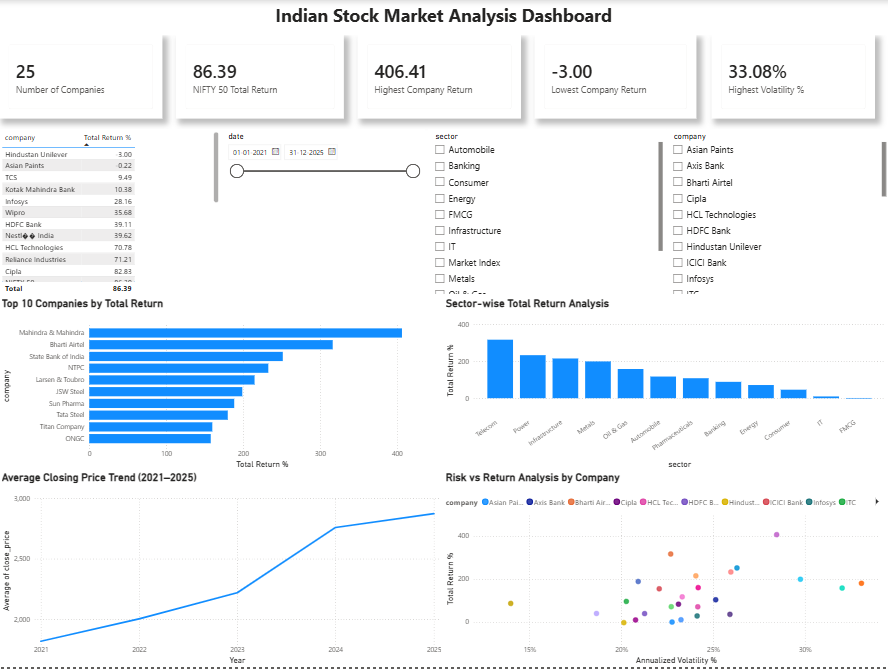

What the dashboard file says about the page in this screenshot:
{"tool":"powerbi","page":{"name":"Stock Market Dashboard","canvas":[1600,1200],"ordinal":0},"visuals":[{"type":"cardVisual","fields":{"Data":["StockData.NIFTY 50 Return %"]},"box":[318.4,62.1,302.3,151.1],"z":0},{"type":"cardVisual","title":"Total Companies Analyzed","fields":{"Data":["StockData.Number of Companies"]},"box":[0,62.1,294.2,151.1],"z":1000},{"type":"cardVisual","fields":{"Data":["StockData.Highest Company Return %"]},"box":[645,62.1,294.2,151.1],"z":2000},{"type":"cardVisual","fields":{"Data":["StockData.Lowest Company Return %"]},"box":[963.4,62.1,291.5,151.1],"z":3000},{"type":"cardVisual","fields":{"Data":["StockData.Highest Volatility %"]},"box":[1281.9,62.1,294.2,151.1],"z":4000},{"type":"tableEx","fields":{"Values":["StockData.company","StockData.Total Return %"]},"box":[0,233.3,400,300],"z":5000},{"type":"slicer","fields":{"Values":["StockData.date"]},"box":[400,233.3,366.7,300],"z":6000},{"type":"slicer","fields":{"Values":["StockData.sector"]},"box":[772.2,233.3,427.8,300],"z":7000},{"type":"slicer","fields":{"Values":["StockData.company"]},"box":[1200,233.3,400,300],"z":8000},{"type":"clusteredBarChart","title":"Top 10 Companies by Total Return","fields":{"Category":["StockData.company"],"Y":["StockData.Total Return %"]},"box":[0,533.3,800,313.9],"z":9000},{"type":"clusteredColumnChart","title":"Sector-wise Total Return Analysis","fields":{"Category":["StockData.sector"],"Y":["StockData.Total Return %"]},"box":[800,533.3,800,313.3],"z":10000},{"type":"lineChart","title":"Average Closing Price Trend (2021–2025)","fields":{"Category":["StockData.date.Variation.Date Hierarchy.Year","StockData.date.Variation.Date Hierarchy.Quarter","StockData.date.Variation.Date Hierarchy.Month","StockData.date.Variation.Date Hierarchy.Day"],"Y":["Avg(StockData.close_price)"]},"box":[0,846.7,800,353.3],"z":11000},{"type":"scatterChart","title":"Risk vs Return Analysis by Company","fields":{"X":["StockData.Annualized Volatility %"],"Y":["StockData.Total Return %"],"Series":["StockData.company"]},"box":[800,846.7,800,353.3],"z":12000},{"type":"textbox","box":[0,0,1600,63.3],"z":13000}]}

Visuals, with their boxes in screenshot pixels (x1, y1, x2, y2), scaled from the page's 1600x1200 canvas onto the 888x669 screenshot:
cardVisual - StockData.NIFTY 50 Return %: region(177, 35, 344, 119)
"Total Companies Analyzed" cardVisual: region(0, 35, 163, 119)
cardVisual - StockData.Highest Company Return %: region(358, 35, 521, 119)
cardVisual - StockData.Lowest Company Return %: region(535, 35, 696, 119)
cardVisual - StockData.Highest Volatility %: region(711, 35, 875, 119)
tableEx - StockData.company x StockData.Total Return %: region(0, 130, 222, 297)
slicer - StockData.date: region(222, 130, 426, 297)
slicer - StockData.sector: region(429, 130, 666, 297)
slicer - StockData.company: region(666, 130, 887, 297)
"Top 10 Companies by Total Return" clusteredBarChart: region(0, 297, 444, 472)
"Sector-wise Total Return Analysis" clusteredColumnChart: region(444, 297, 887, 472)
"Average Closing Price Trend (2021–2025)" lineChart: region(0, 472, 444, 668)
"Risk vs Return Analysis by Company" scatterChart: region(444, 472, 887, 668)
textbox: region(0, 0, 887, 35)
